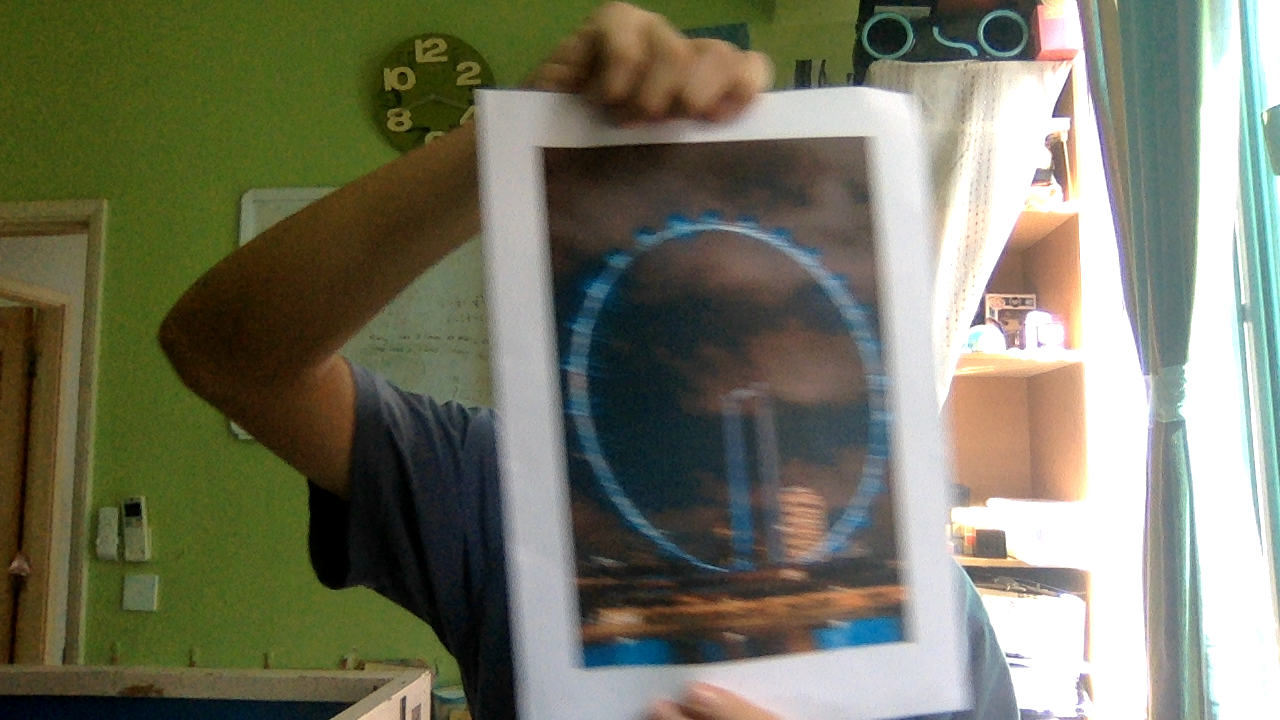Flyer: (544, 146, 914, 650)
